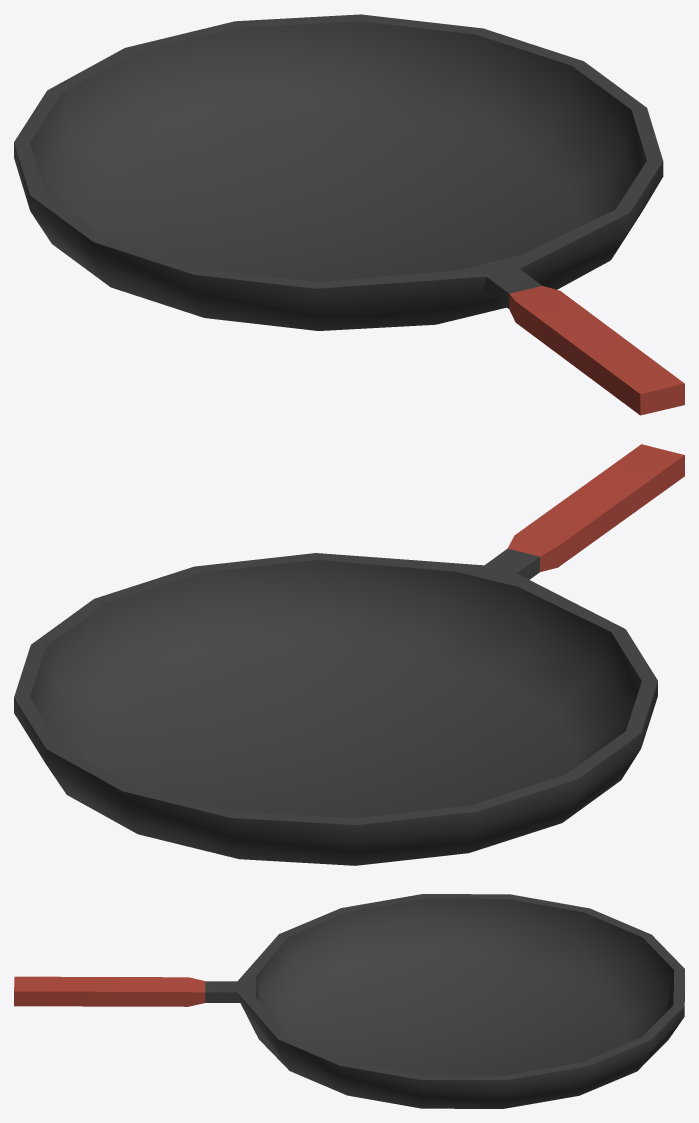
The model's file is pan.fbx.
The picture shows the model from 3 angles, top to bottom: view 1: azimuth 30°, elevation 25°; view 2: azimuth 150°, elevation 25°; view 3: azimuth 270°, elevation 25°; orthographic projection. The views are drawn at different scales.
Visible parts, largest first — view 1: pan; view 2: pan; view 3: pan.
Boxes of the visible parts, x1,y1,x2,y2 form: pan: (14,14,684,415); pan: (14,444,684,865); pan: (14,894,684,1108).
Bounding box in the file's own units: 0.9395 × 0.1292 × 1.43.
